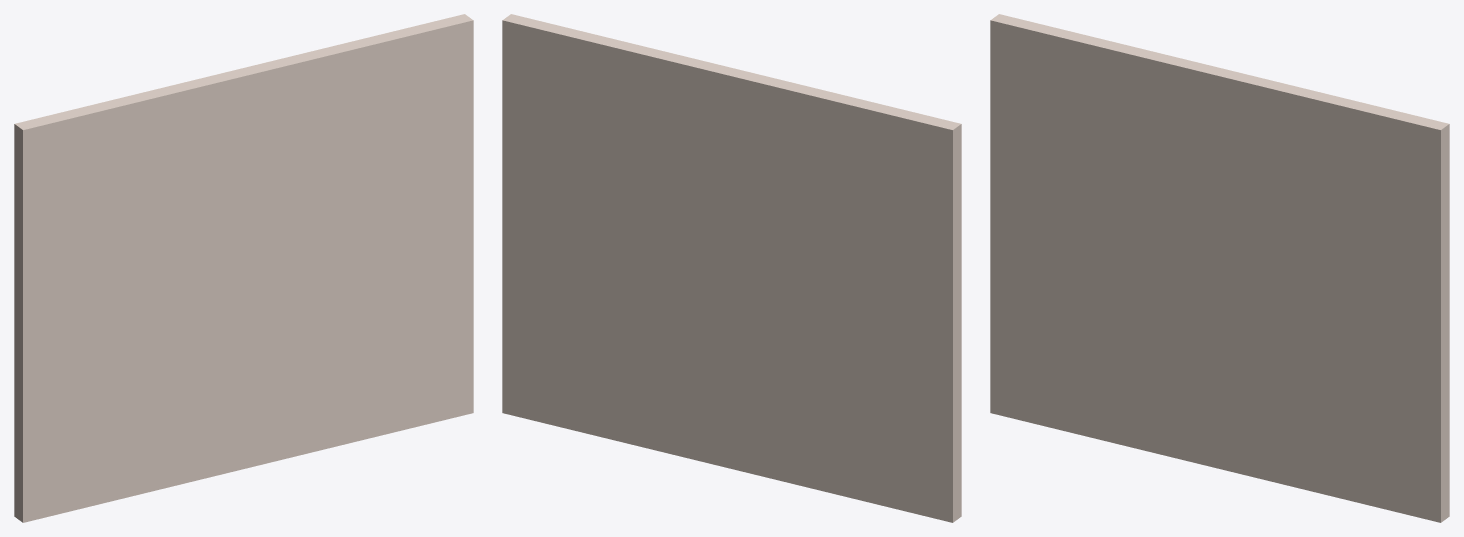
Rendered from Wall.fbx.
3 views of the same model, side by side, from view 1: azimuth 30°, elevation 25°; view 2: azimuth 150°, elevation 25°; view 3: azimuth 330°, elevation 25° (orthographic).
Visible parts, largest first — view 1: Wall1; view 2: Wall1; view 3: Wall1.
Boxes of the visible parts, x1,y1,x2,y2 form: Wall1: (14, 14, 473, 522); Wall1: (502, 14, 961, 522); Wall1: (990, 14, 1449, 522).
Bounding box in the file's own units: 300 × 250 × 10.
